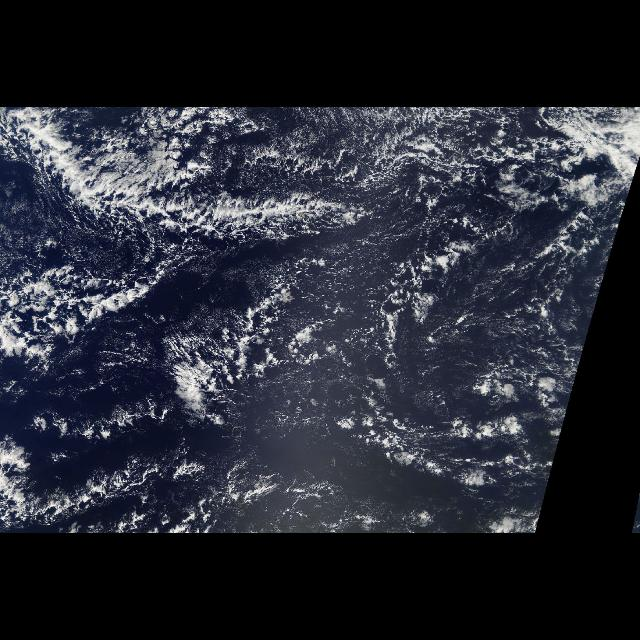Fish: (1, 108, 383, 434)
Gravel: (3, 112, 609, 528)
